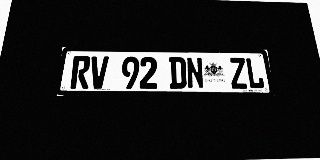2: (140, 57, 157, 89)
9: (121, 56, 139, 89)
D: (169, 57, 187, 89)
L: (245, 58, 265, 89)
N: (186, 57, 204, 89)
R: (70, 56, 91, 89)
V: (89, 56, 109, 89)
Z: (229, 58, 248, 89)
